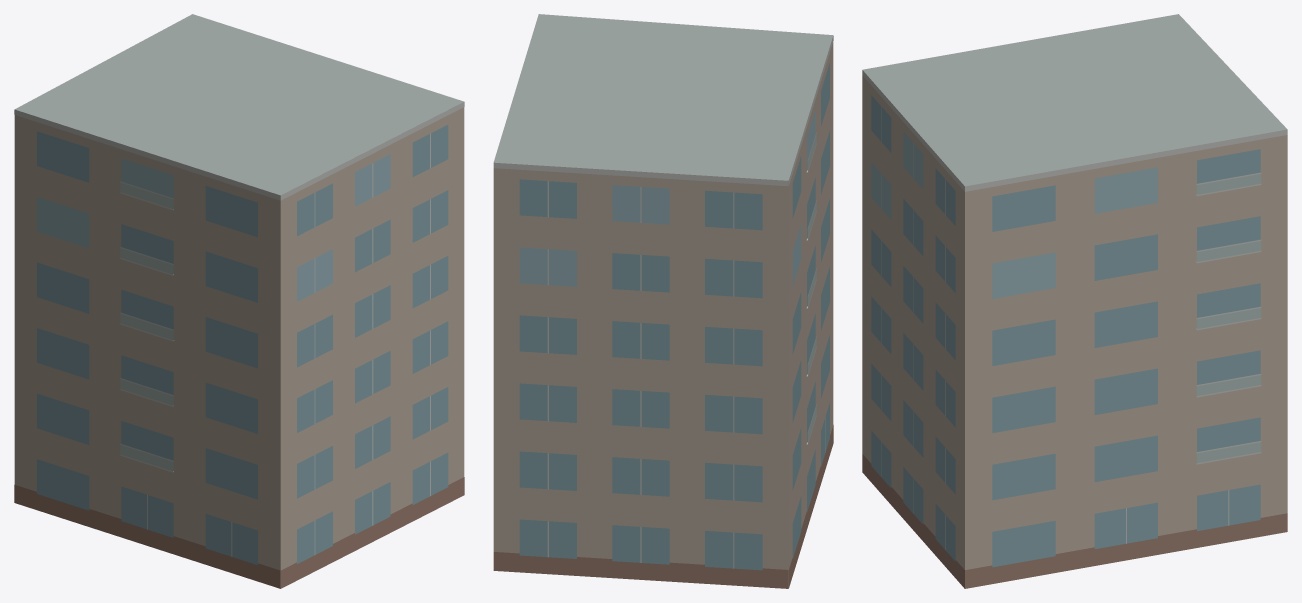
File: survey-upis-32958828.glb
3 views of the same model, side by side, from view 1: azimuth 30°, elevation 25°; view 2: azimuth 150°, elevation 25°; view 3: azimuth 270°, elevation 25° (orthographic). The views are drawn at different scales.
Visible parts, largest first — view 1: survey-upis-32958828.tmp; view 2: survey-upis-32958828.tmp; view 3: survey-upis-32958828.tmp.
Boxes of the visible parts, left/top/right/bottom form: survey-upis-32958828.tmp: left=14, top=14, right=464, bottom=588; survey-upis-32958828.tmp: left=493, top=14, right=833, bottom=588; survey-upis-32958828.tmp: left=862, top=14, right=1287, bottom=588.
Bounding box in the file's own units: 16.87 × 18.35 × 17.59.
